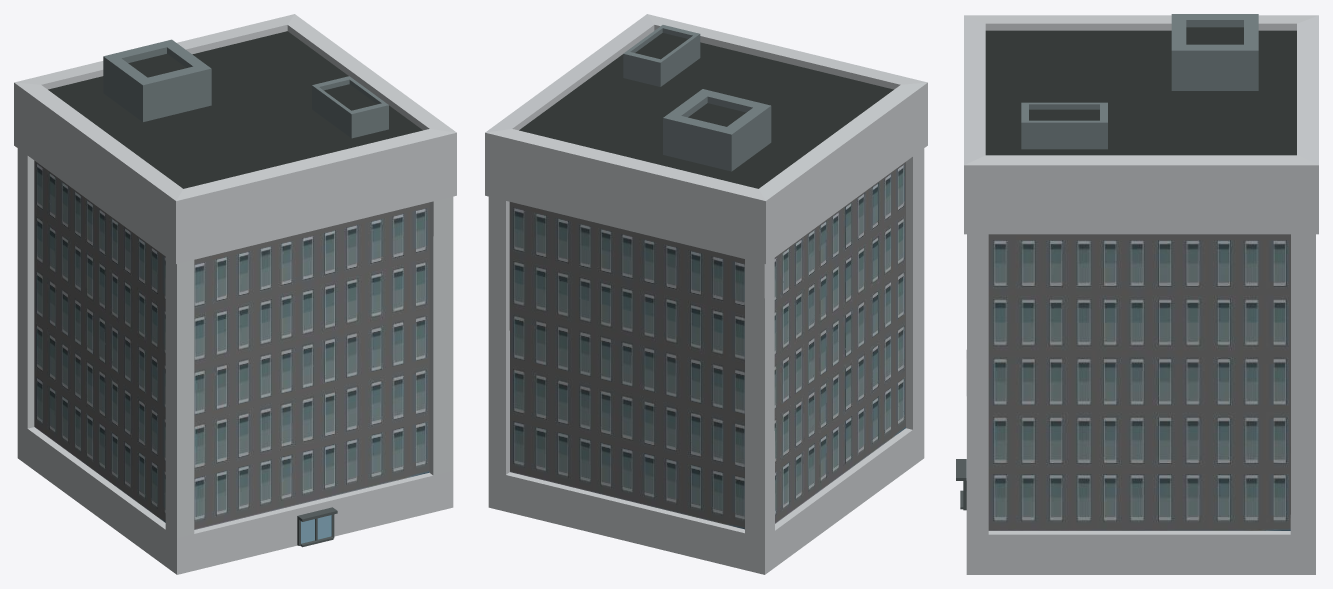
File: High Tower Low Grey.glb
3 renders of one model, left to right at view 1: azimuth 30°, elevation 25°; view 2: azimuth 150°, elevation 25°; view 3: azimuth 270°, elevation 25°, orthographic. The views are drawn at different scales.
Parts seen in each view (by area): view 1: High Tower Low Grey; view 2: High Tower Low Grey; view 3: High Tower Low Grey.
Boxes of the visible parts, x1=… form: High Tower Low Grey: x1=14, y1=14, x2=456, y2=574; High Tower Low Grey: x1=485, y1=14, x2=927, y2=574; High Tower Low Grey: x1=956, y1=14, x2=1318, y2=574.
Bounding box in the file's own units: 0.6846 × 0.9473 × 0.6999.
1 material, 1 textured.
